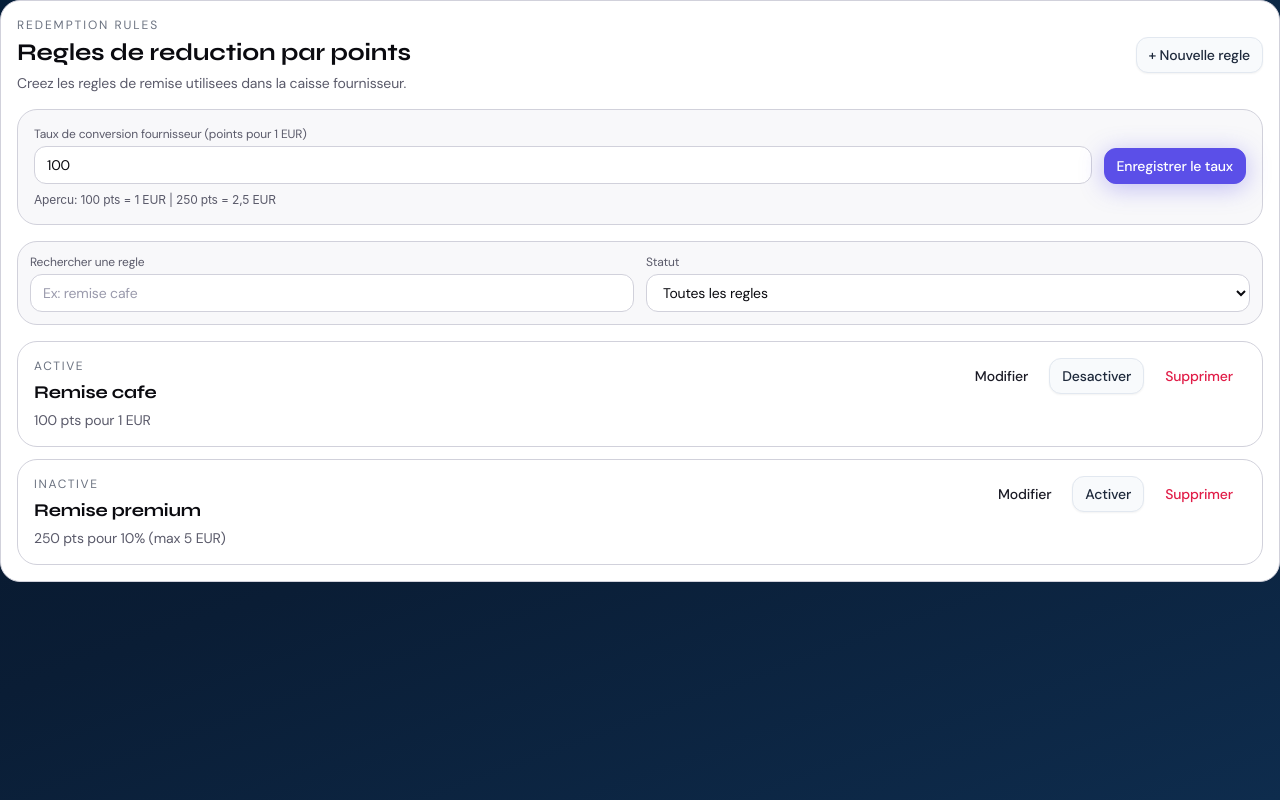
MerchantRedemptionRules › filters list with search query
This screenshot has width=1280, height=800.
Expected: the heading "Remise cafe" is shown, [34,378,156,406]
Type "premium" into the field with placeholder "Ex: remise cafe".
click(332, 293); type("premium")  # box [30,274,634,312]
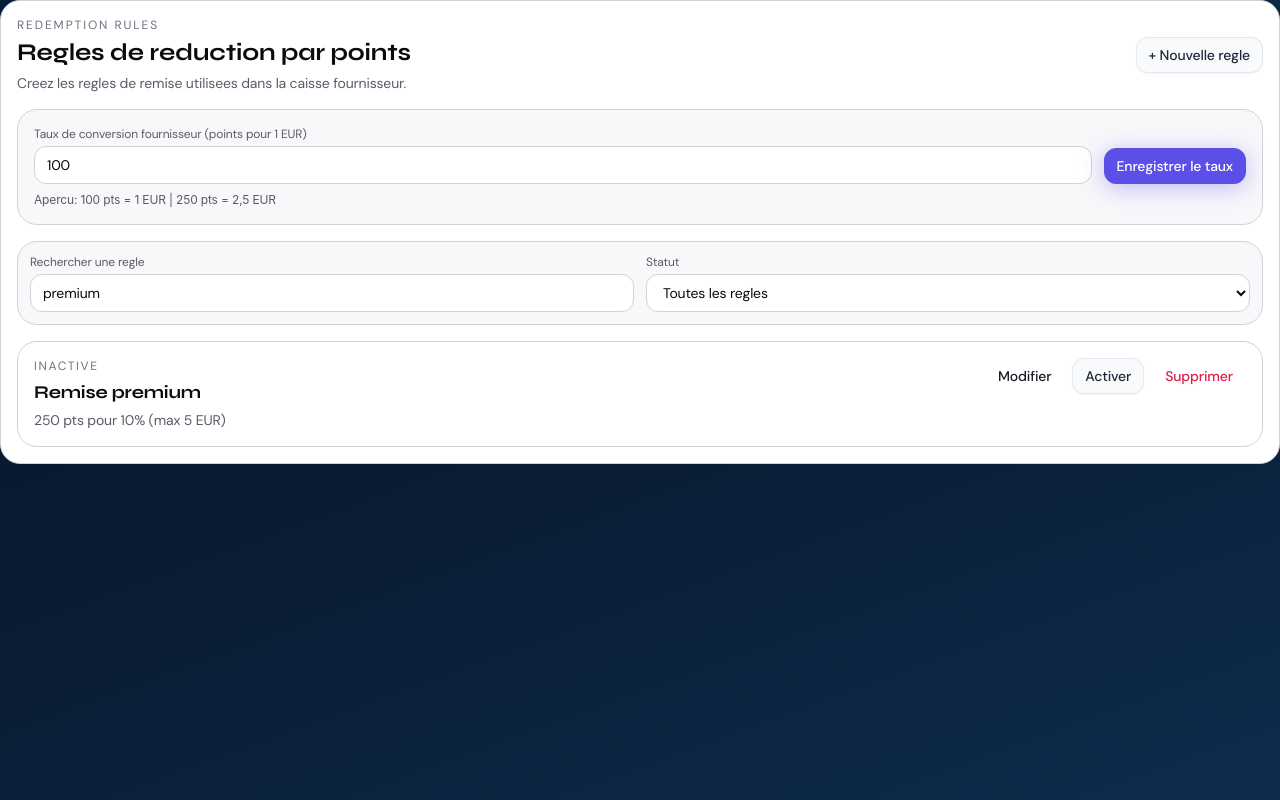
Expected: the heading "Remise premium" is shown, [34,378,226,406]
Expected: the heading "Remise cafe" is gone
